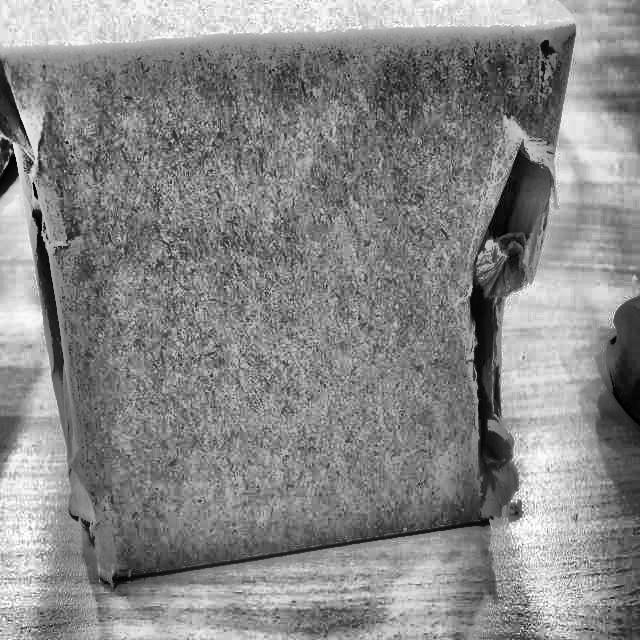box: (0, 0, 571, 594)
hole: (468, 130, 549, 468)
